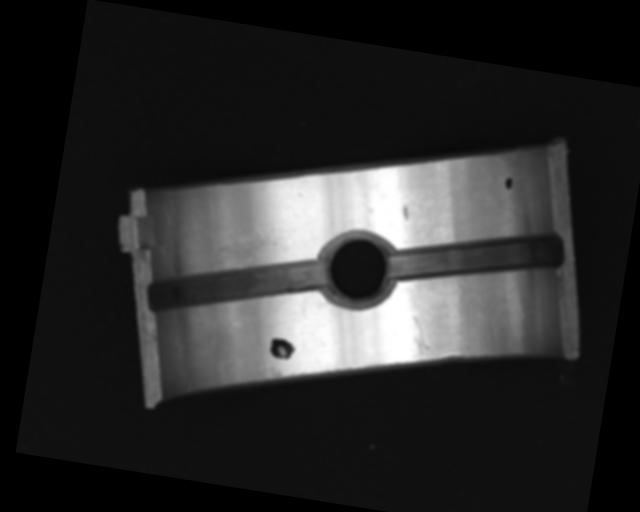blot: (267, 336, 298, 360), (503, 175, 515, 191)
bruise: (401, 204, 410, 221)
gap: (146, 233, 327, 335), (388, 210, 565, 302)
hole: (314, 227, 401, 311)
nick: (405, 314, 434, 362)
scratch: (210, 218, 282, 268)
